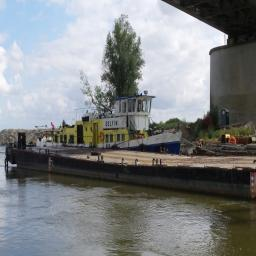tugboat: (35, 84, 184, 186)
